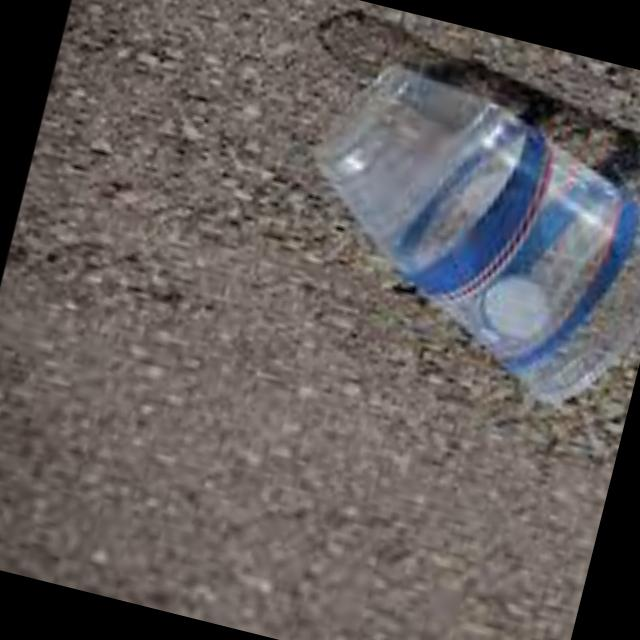GelasPlastik: (262, 42, 640, 427)
